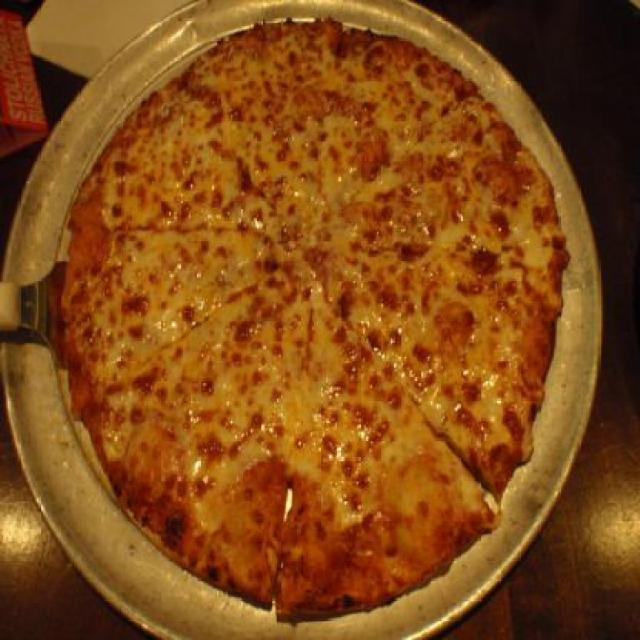Pizza: (63, 9, 566, 600)
